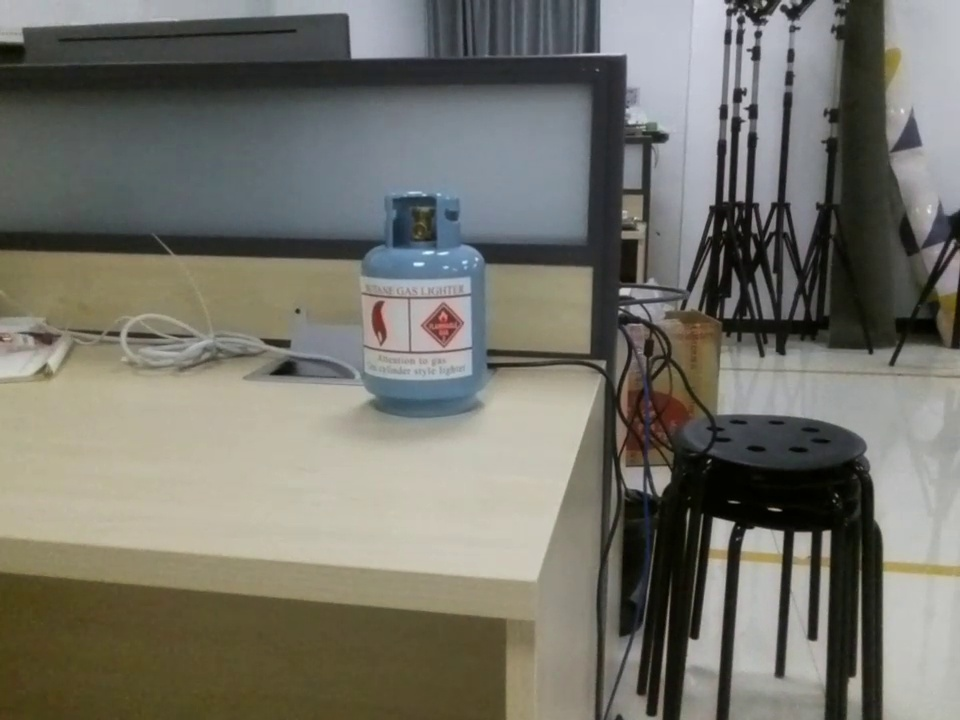gas tank: (350, 186, 497, 420)
